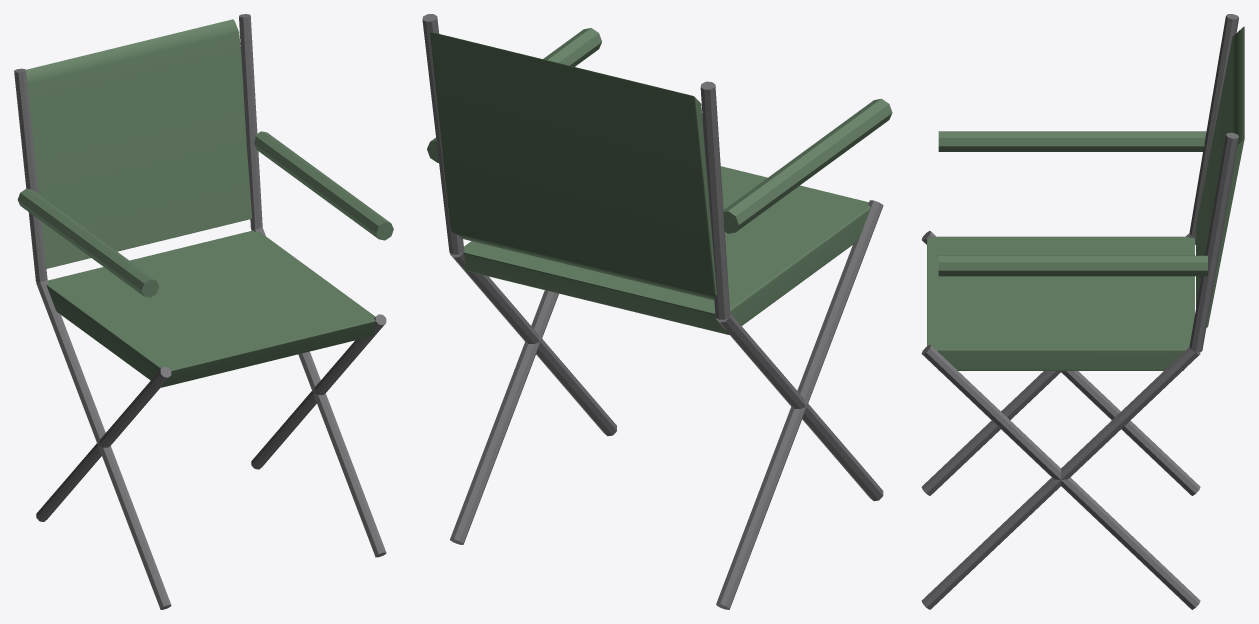
Rendered from industrial.workshop.seat_chair.glb.
3 views of the same model, side by side, from view 1: azimuth 30°, elevation 25°; view 2: azimuth 150°, elevation 25°; view 3: azimuth 270°, elevation 25° (orthographic). The views are drawn at different scales.
Parts seen in each view (by area): view 1: main__paint_686, main__galv_777; view 2: main__paint_686, main__galv_777; view 3: main__paint_686, main__galv_777.
Part boxes in pixels (x1,y1,x2,y2): main__paint_686: [17, 19, 393, 387]; main__galv_777: [14, 14, 386, 609]; main__paint_686: [427, 28, 892, 334]; main__galv_777: [422, 14, 883, 609]; main__paint_686: [927, 26, 1244, 370]; main__galv_777: [921, 14, 1238, 609].
Bounding box in the file's own units: 0.516 × 0.8593 × 0.5274.
